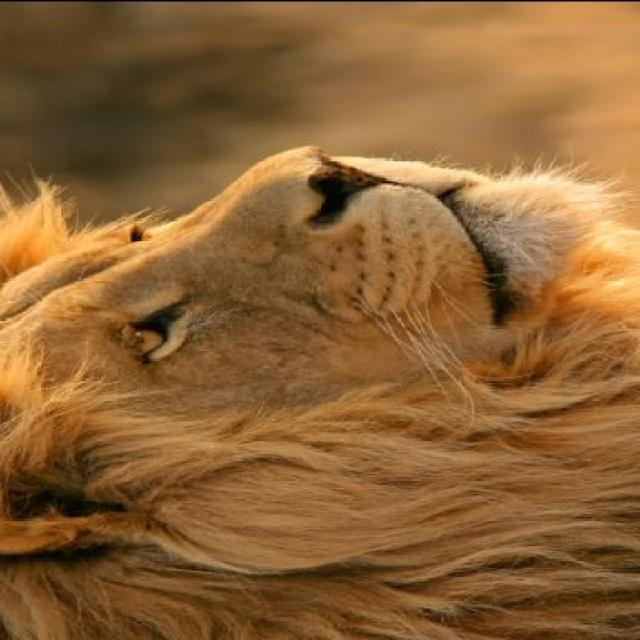Lion: (0, 129, 638, 638)
